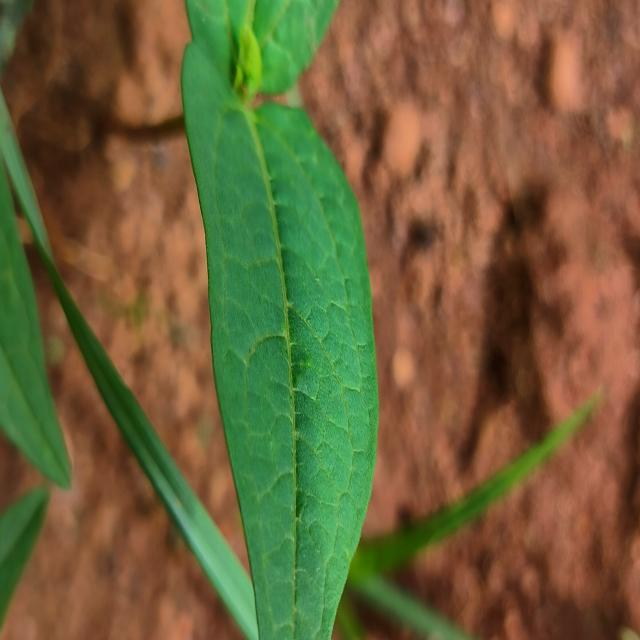Black gram_healthy: (183, 52, 378, 640)
